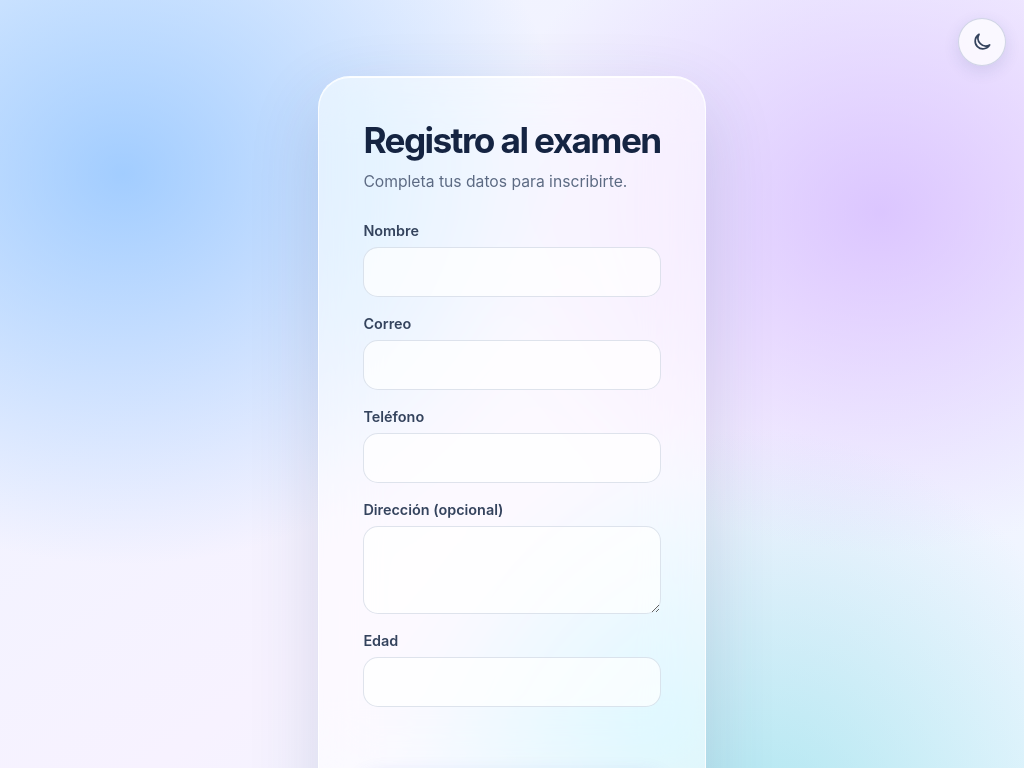
Test: ExamRegistrationPage › validates and displays the demo registration message
Type "Ada Lovelace" into the field labelled "Nombre" at (512, 272), box left=363, top=247, right=661, bottom=297
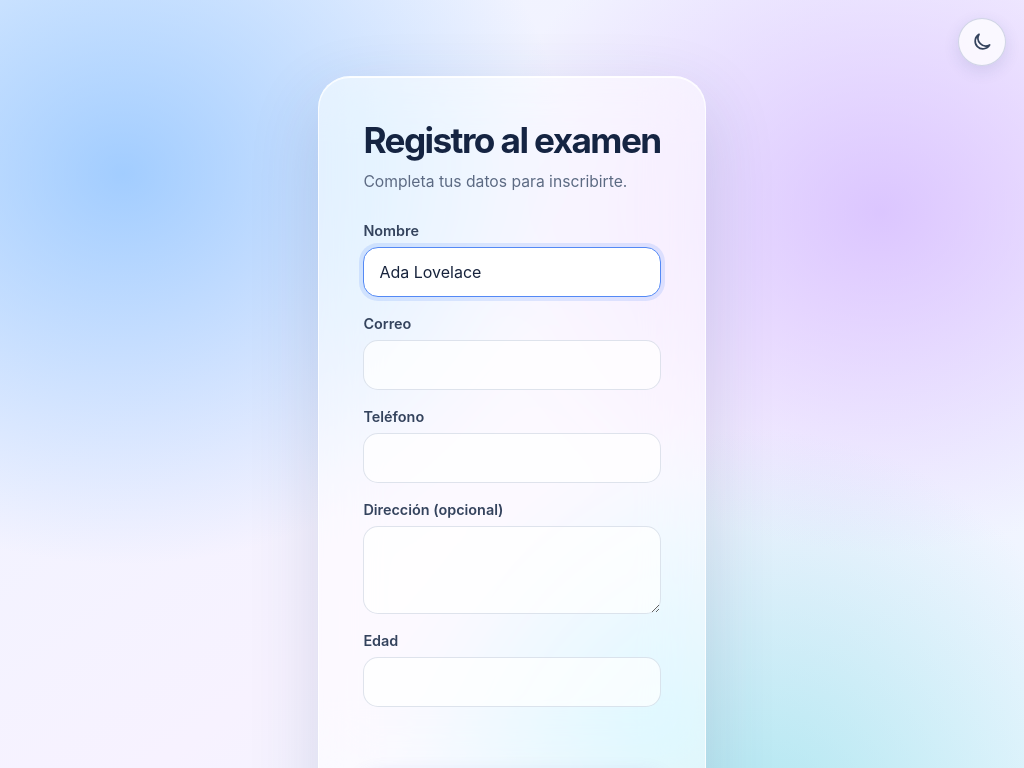
Type "ada@example.com" into the field labelled "Correo" at (512, 365), box left=363, top=340, right=661, bottom=390
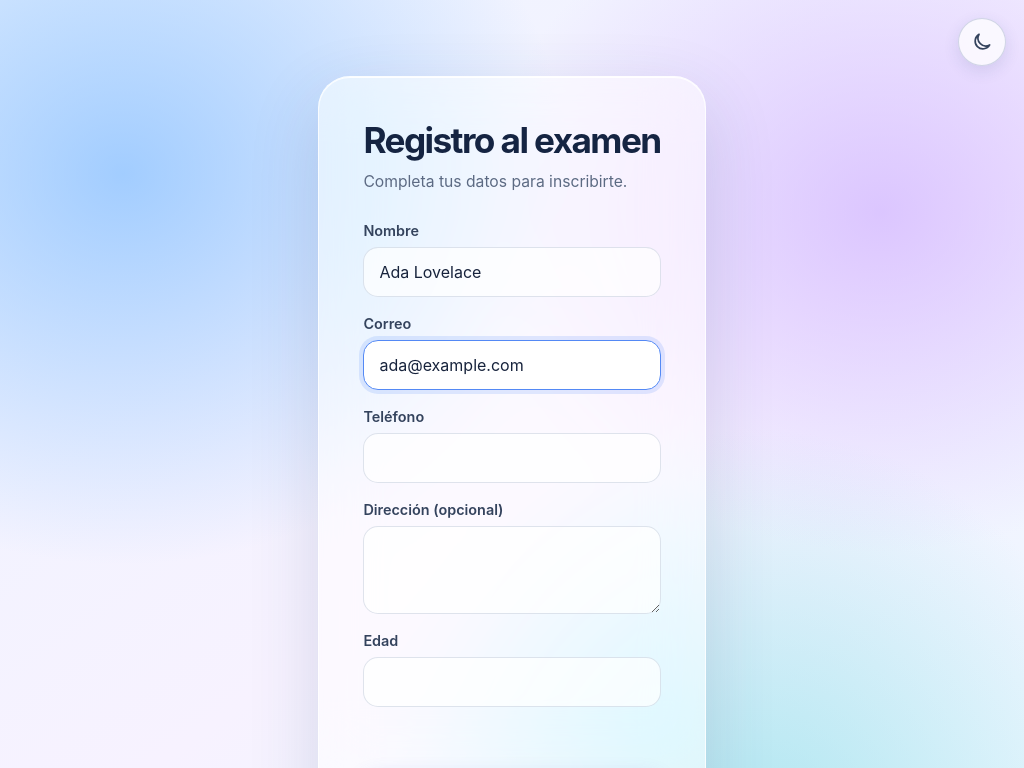
Type "5551234567" into the field labelled "Teléfono" at (512, 458), box left=363, top=433, right=661, bottom=483
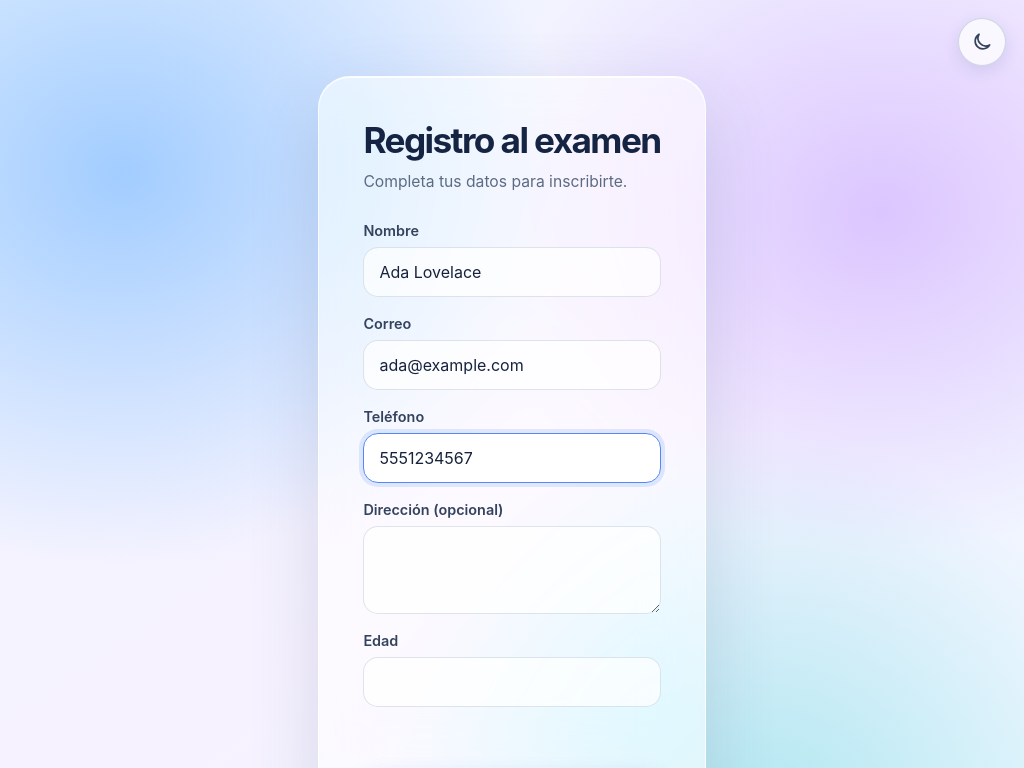
Type "Calle 1" into the text box labelled "Dirección (opcional)" at (512, 570), box left=363, top=526, right=661, bottom=614
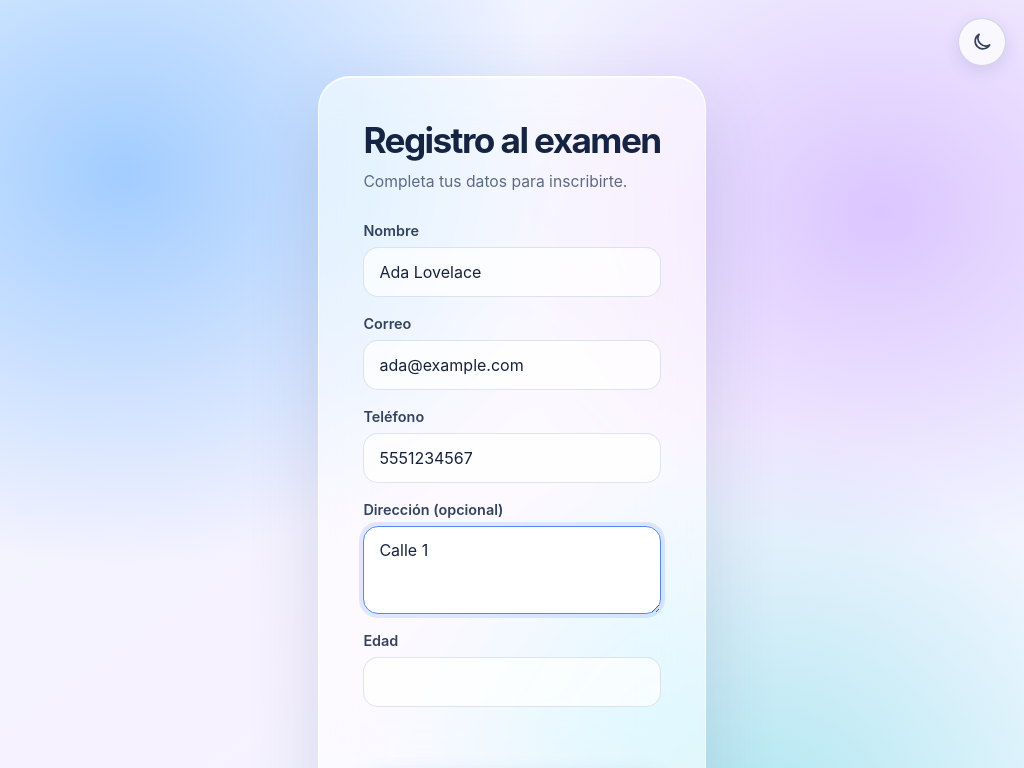
Type "36" into the number field labelled "Edad" at (512, 682), box left=363, top=657, right=661, bottom=707
(page scrolled)
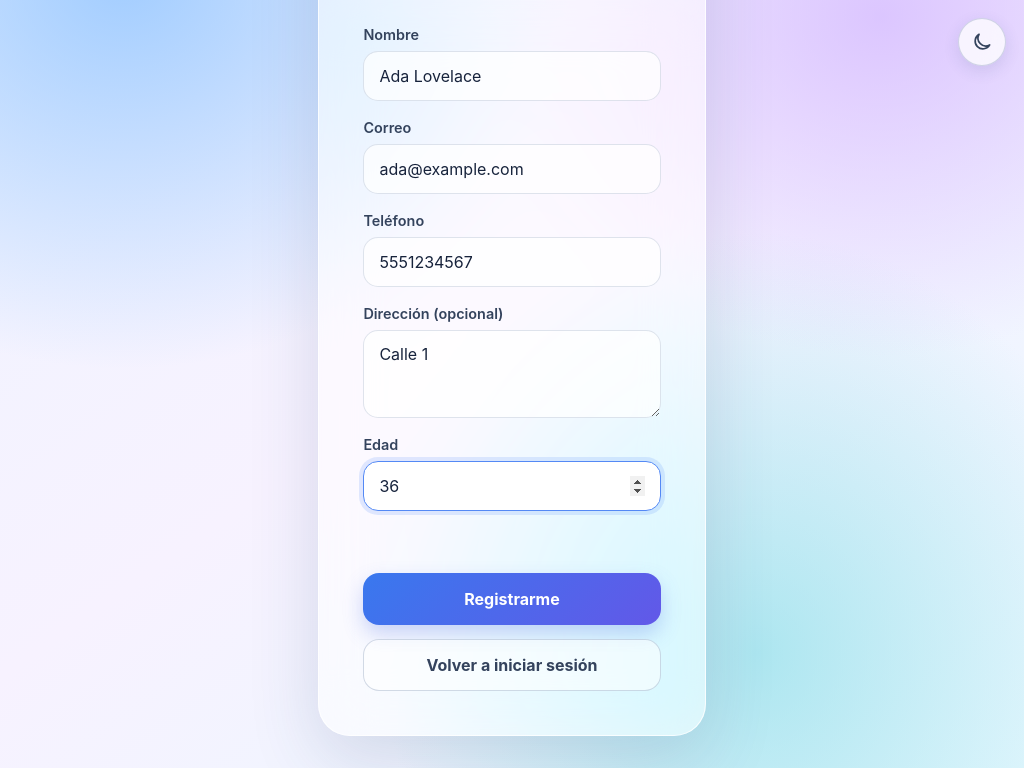
Click the button "Registrarme" at (512, 598), box left=363, top=572, right=661, bottom=624
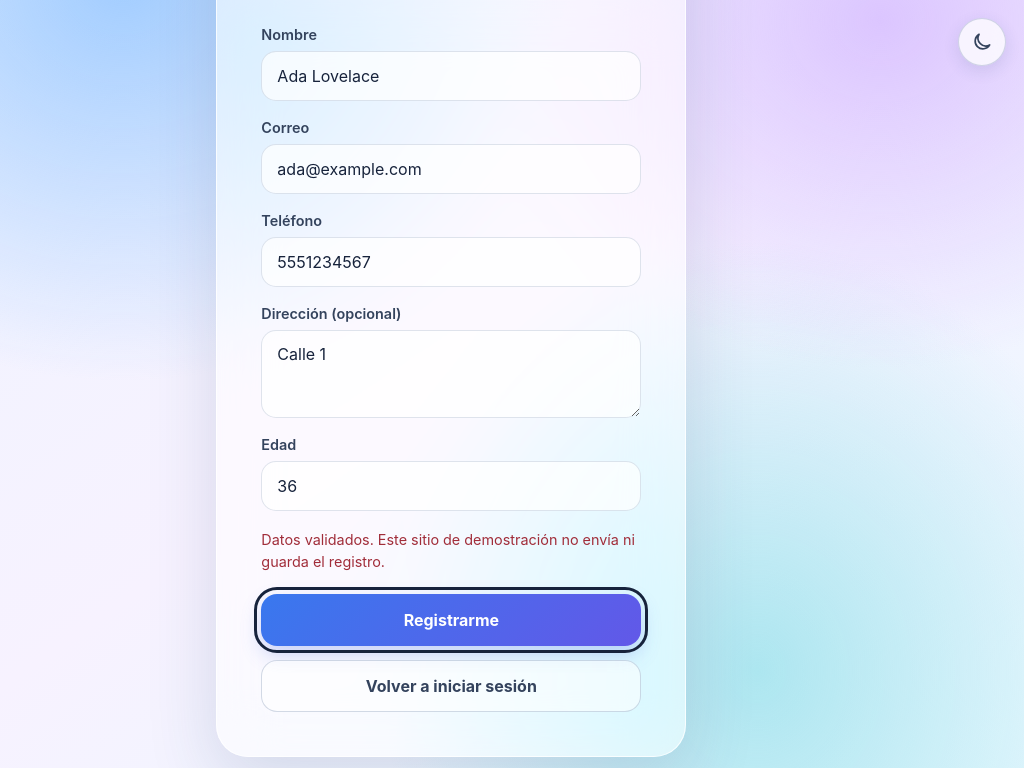
Check: the message reads "Datos validados. Este sitio de demostración no envía ni guarda el registro.", box left=261, top=531, right=635, bottom=570
